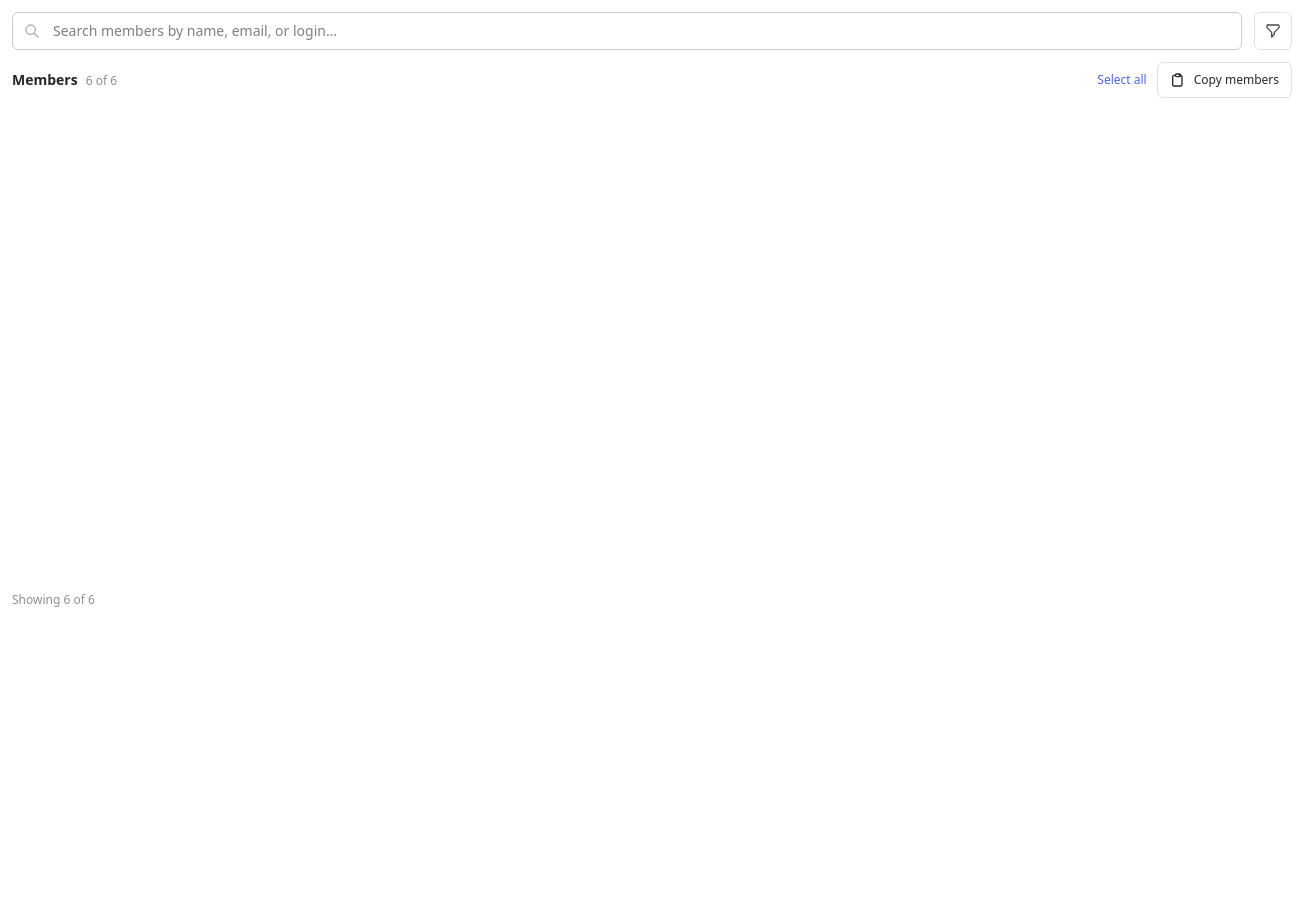
it: MemberExplorer filtering › clears every filter at once, across dimensions
This screenshot has width=1304, height=912.
Click the button named "Filters": (1273, 31) [1254,12,1292,50]
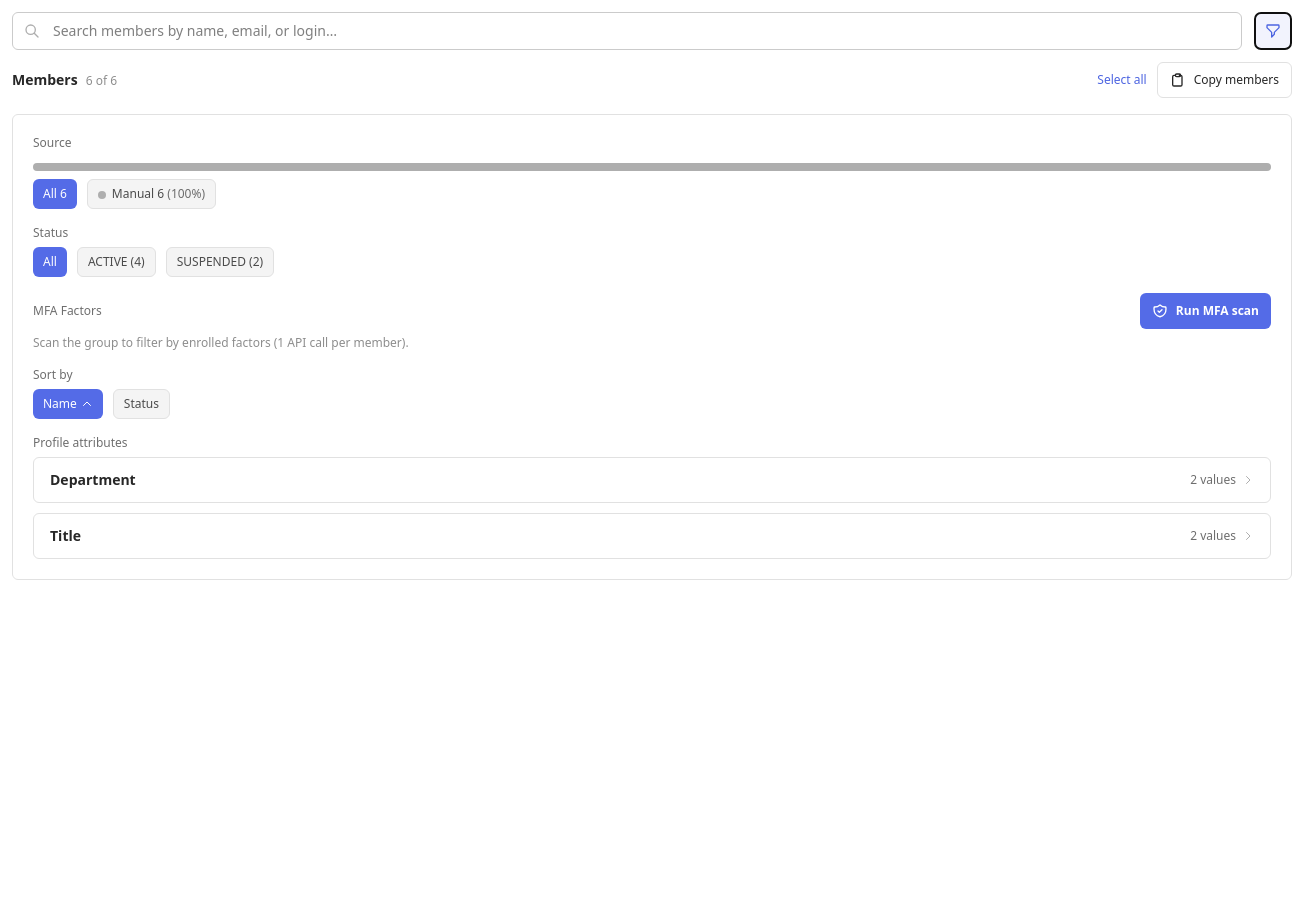
Click the button "Manual 6 (100%)": (152, 194) [87,179,216,209]
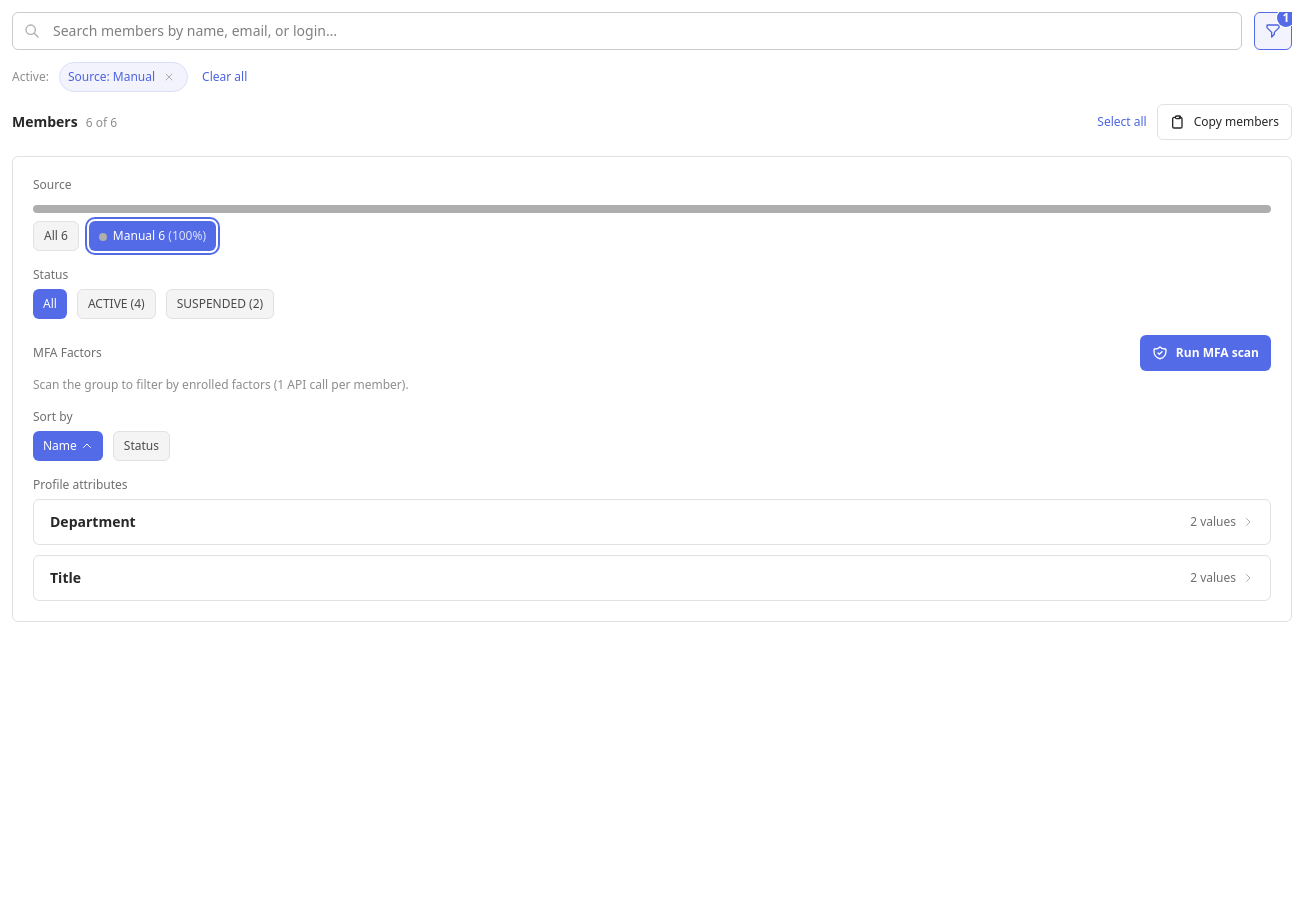
Click the button "SUSPENDED (2)": (220, 304) [166,289,274,319]
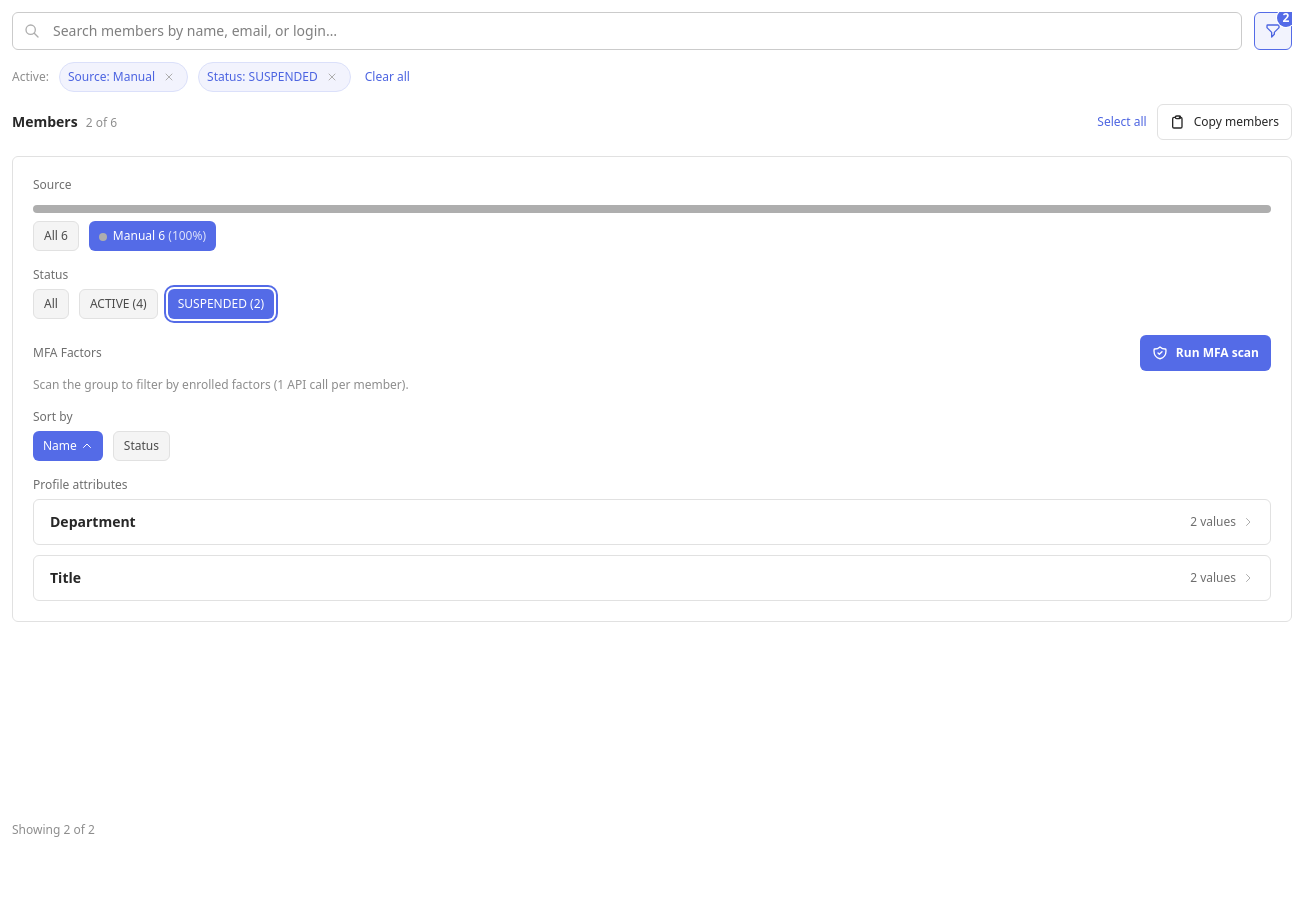
Click the button "Clear all": (387, 77) [365,69,410,85]
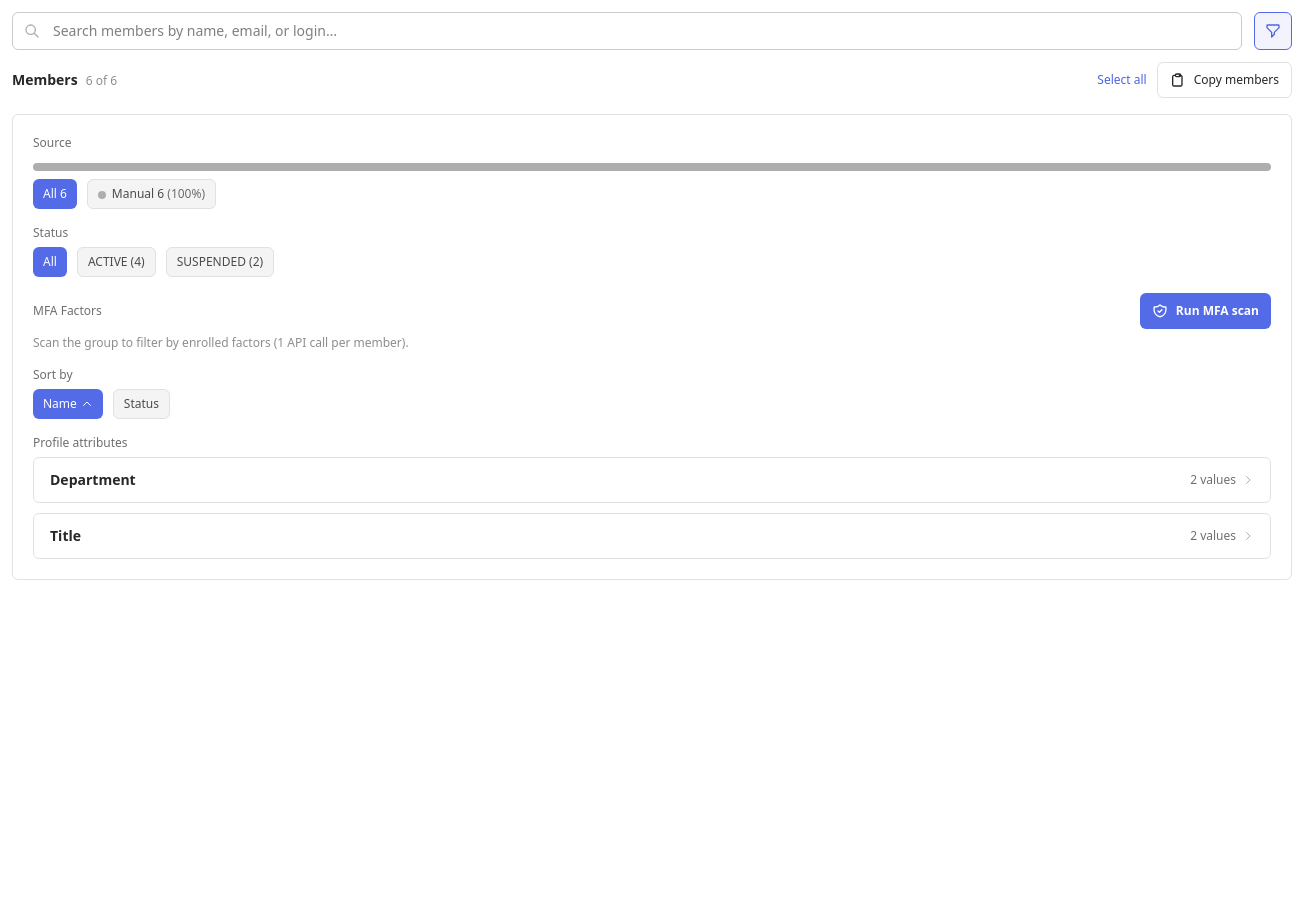
Result: the text "6 of 6" is shown at [86,72,117,89]
Result: the text "Status: SUSPENDED" is gone
Result: the text "Source: Manual" is gone
